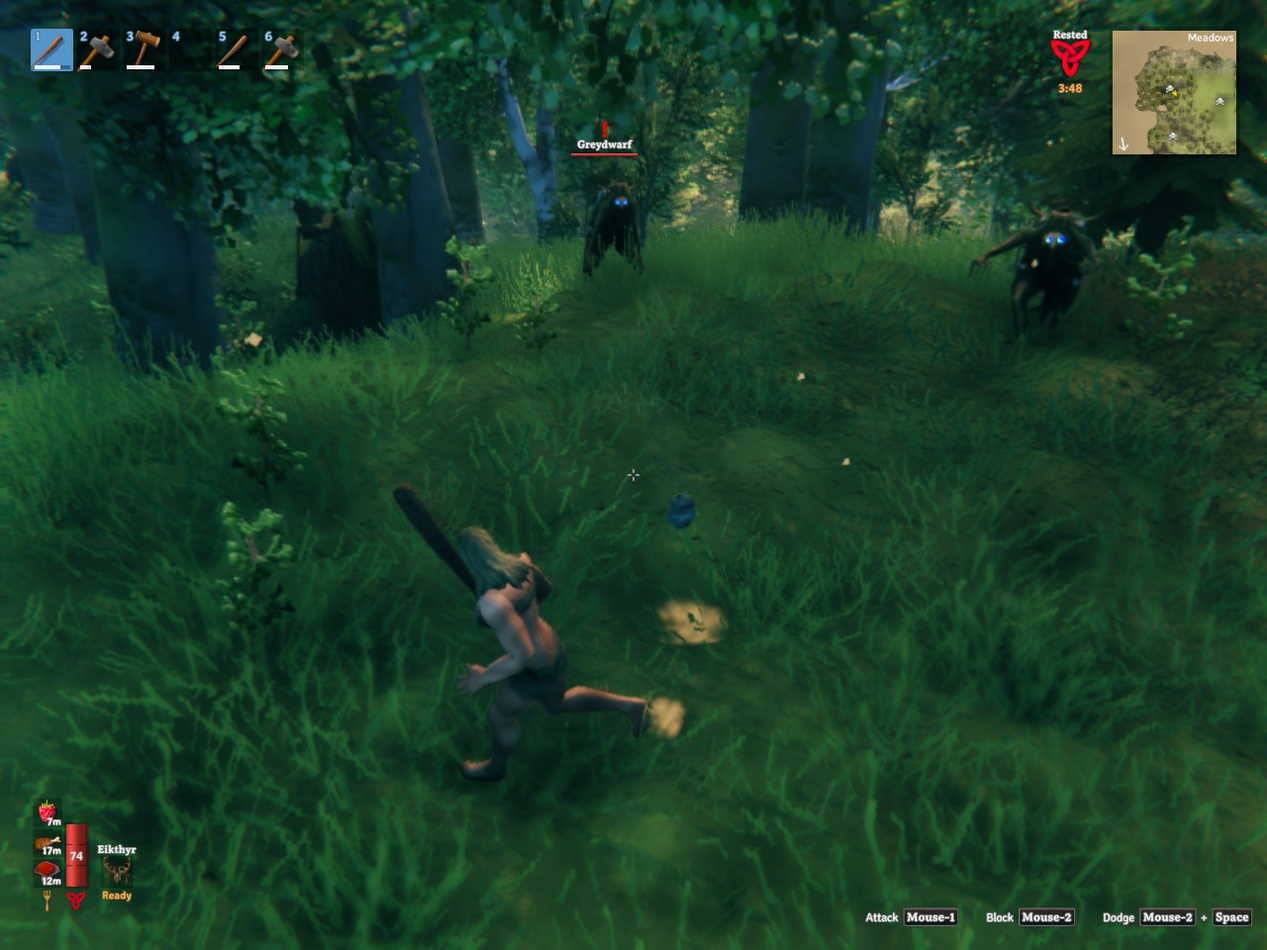Food Indicator: (36, 797, 63, 891)
Greydwarf: (970, 206, 1095, 340), (583, 182, 641, 275)
Health Bar: (63, 820, 90, 891)
Hotbar: (25, 21, 398, 78)
Status Indicator: (1039, 25, 1106, 101)
